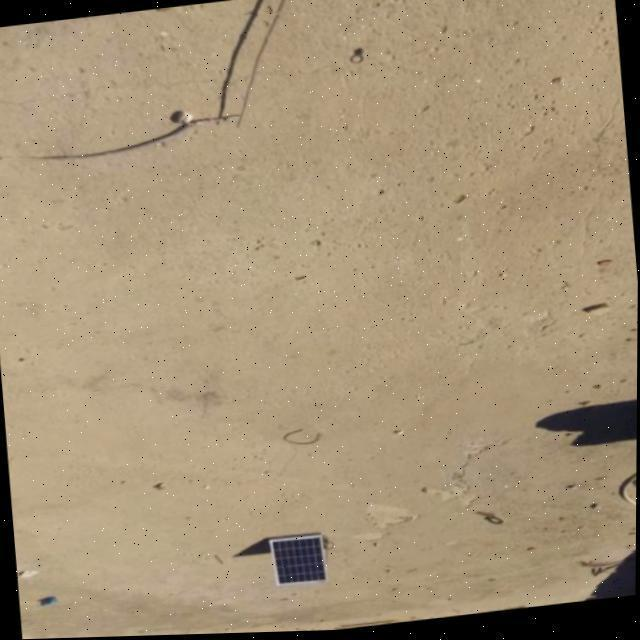Normal Solar Panel: (270, 535, 328, 589)
